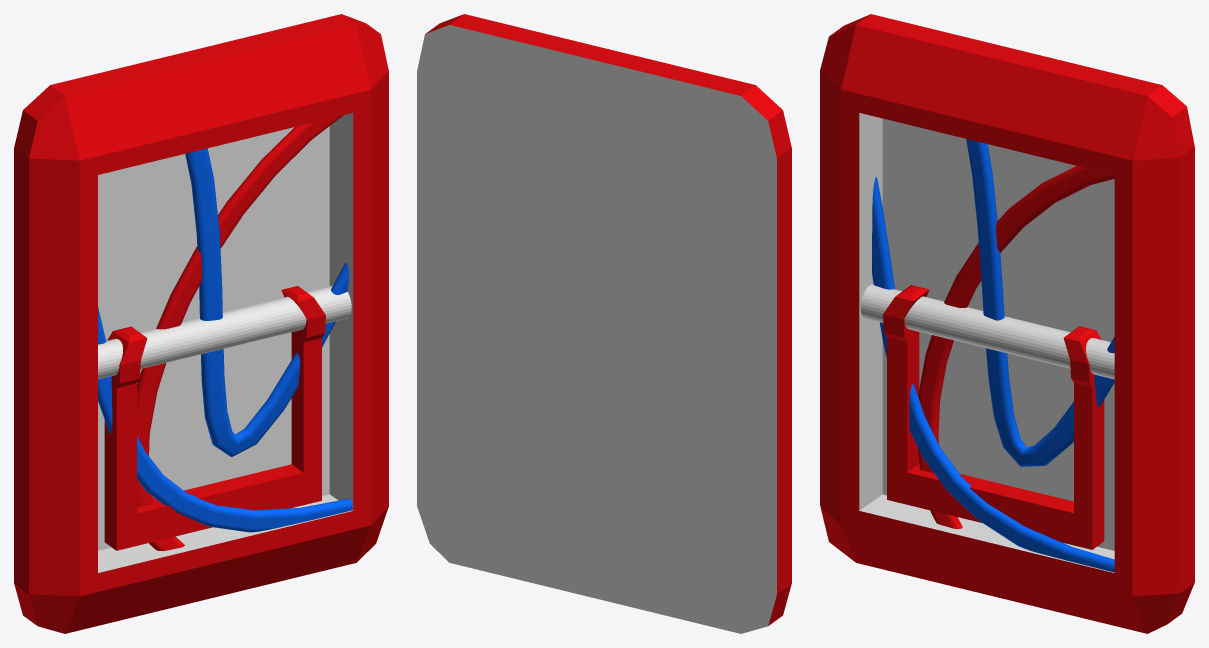
The model's file is Lever.fbx.
The picture shows the model from 3 angles, left to right: view 1: azimuth 30°, elevation 25°; view 2: azimuth 150°, elevation 25°; view 3: azimuth 330°, elevation 25°; orthographic projection.
Visible parts, largest first — view 1: MainPanel, Lever; view 2: MainPanel; view 3: MainPanel, Lever.
Part boxes in pixels (bbox=[...]): MainPanel: bbox=[14, 14, 388, 633]; Lever: bbox=[104, 286, 325, 550]; MainPanel: bbox=[417, 14, 791, 633]; MainPanel: bbox=[820, 14, 1194, 633]; Lever: bbox=[883, 285, 1104, 549].
Size of the model in its own units: 140 by 200 by 20.
